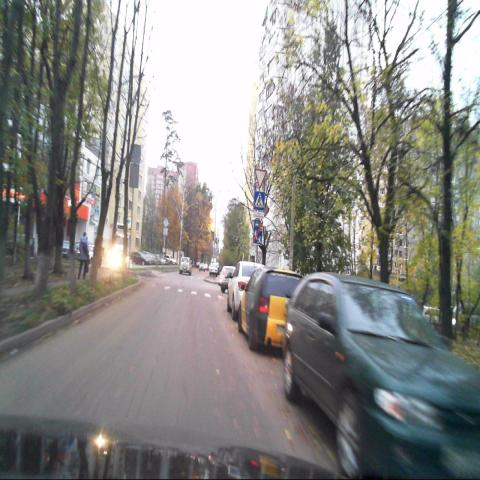2_4: (254, 169, 267, 191)
5_22: (253, 220, 262, 245)
